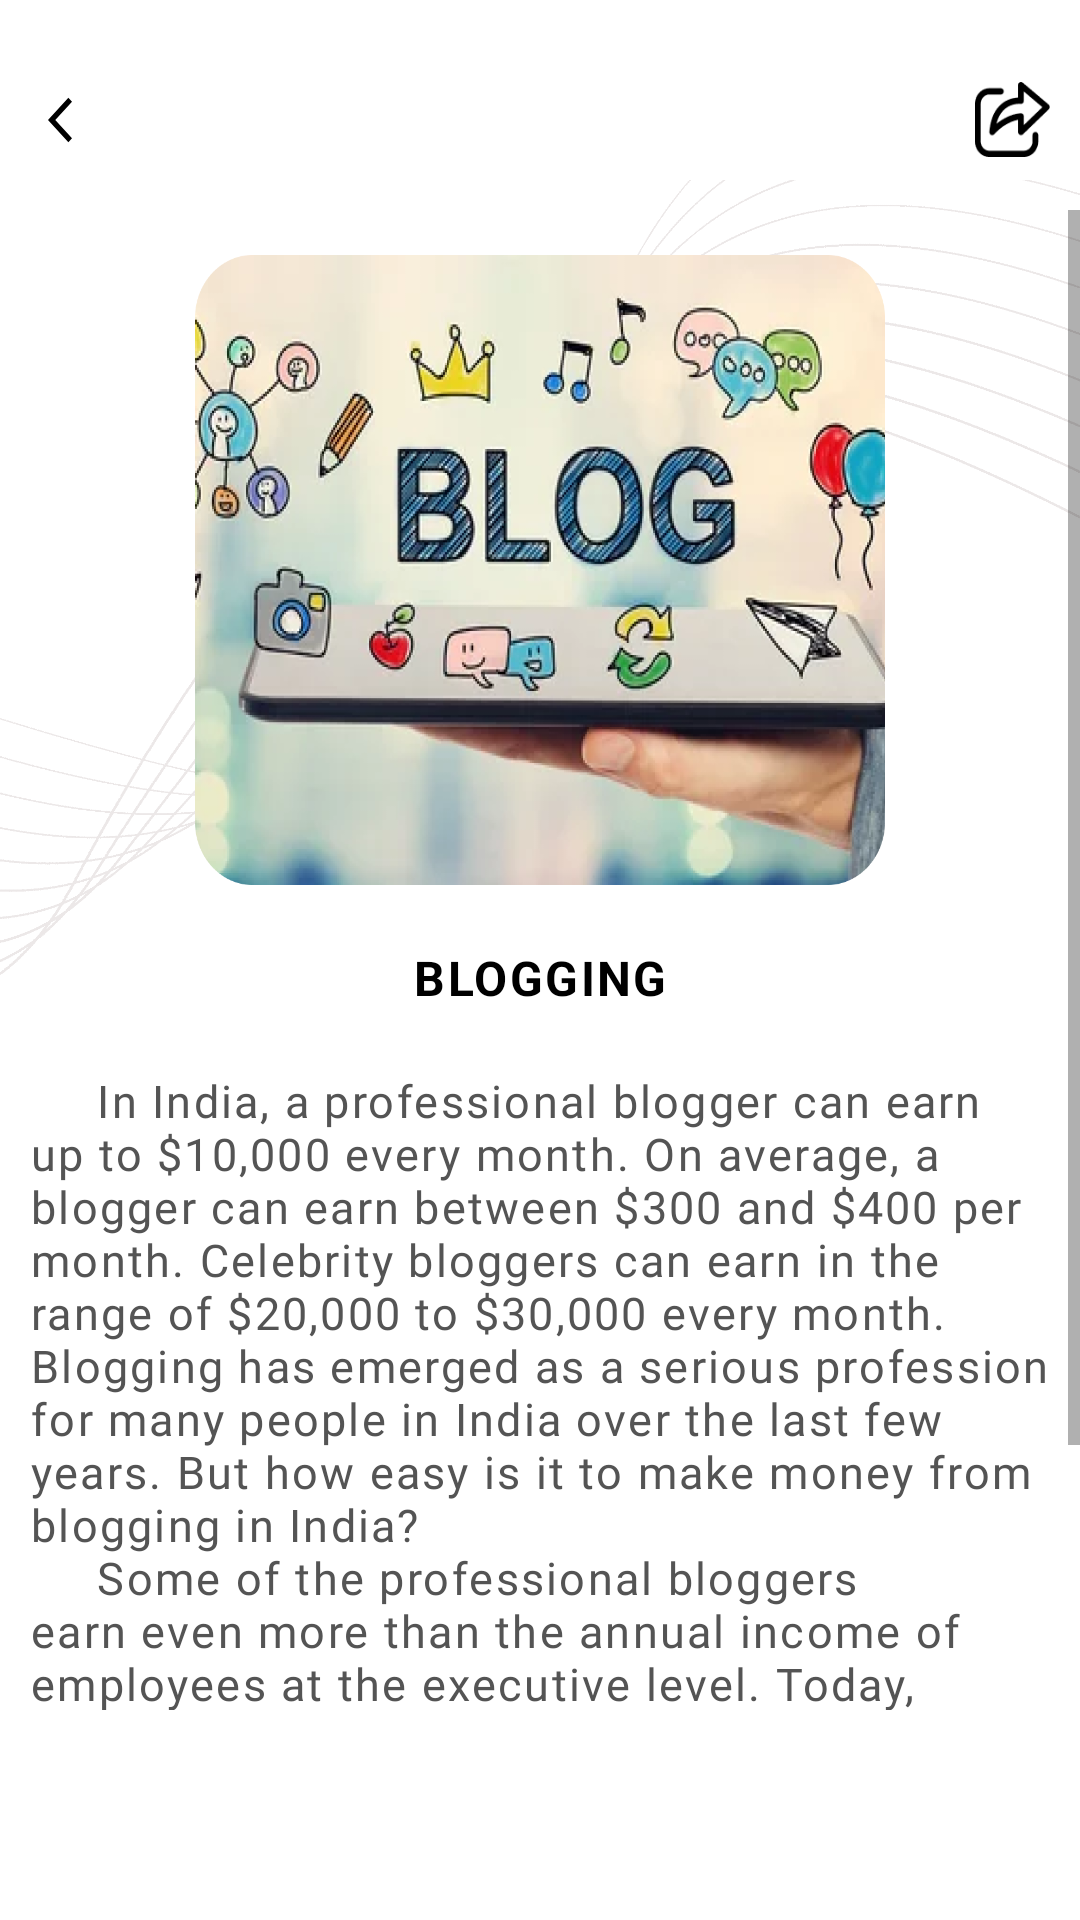

Named icons in this screenshot (1080*1920) and their bounding boxes, (x1, y1, x2, y2):
share: (975, 82, 1050, 157)
